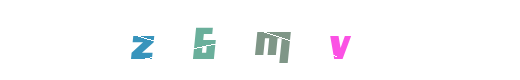6: (202, 0, 282, 80)
M: (220, 0, 300, 80)
V: (299, 0, 379, 80)
Z: (102, 0, 182, 80)
